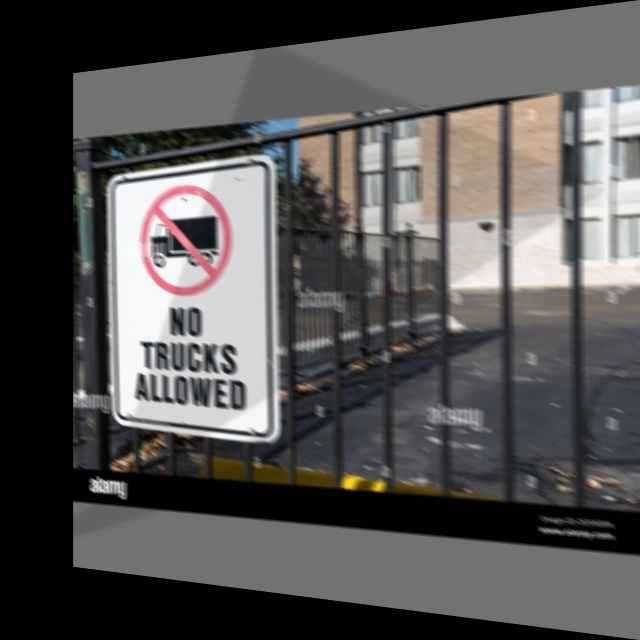Truck_Prohibited: (134, 172, 236, 304)
